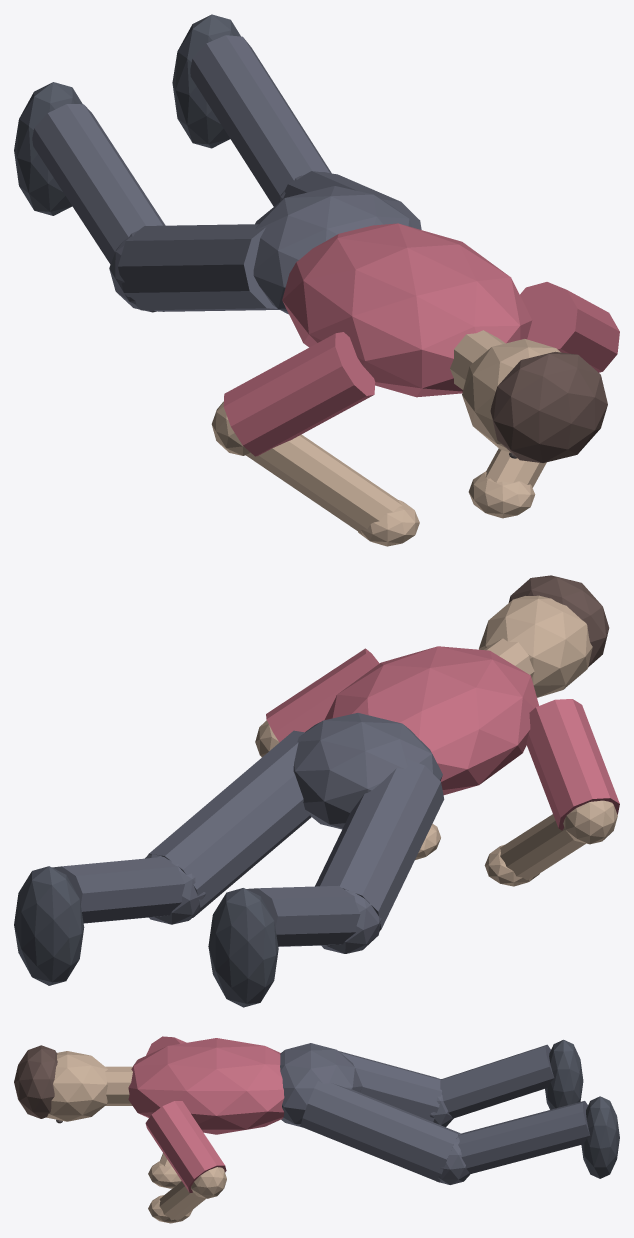
The picture shows the model from 3 angles, top to bottom: view 1: azimuth 30°, elevation 25°; view 2: azimuth 150°, elevation 25°; view 3: azimuth 270°, elevation 25°; orthographic projection. The views are drawn at different scales.
Visible parts, largest first — view 1: world; view 2: world; view 3: world.
Boxes of the visible parts, x1,y1,x2,y2 form: world: [14, 14, 619, 546]; world: [14, 575, 619, 1007]; world: [14, 1036, 619, 1223].
Bounding box in the file's own units: 0.93 × 0.565 × 1.99.
